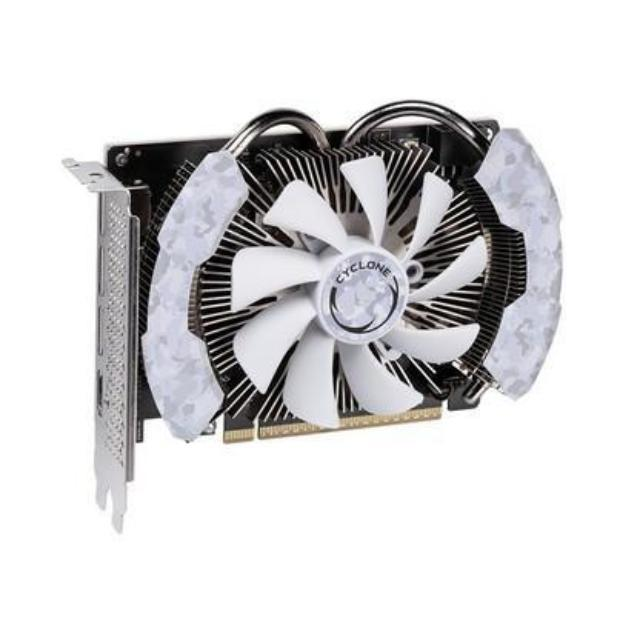GPU: (102, 114, 570, 443)
